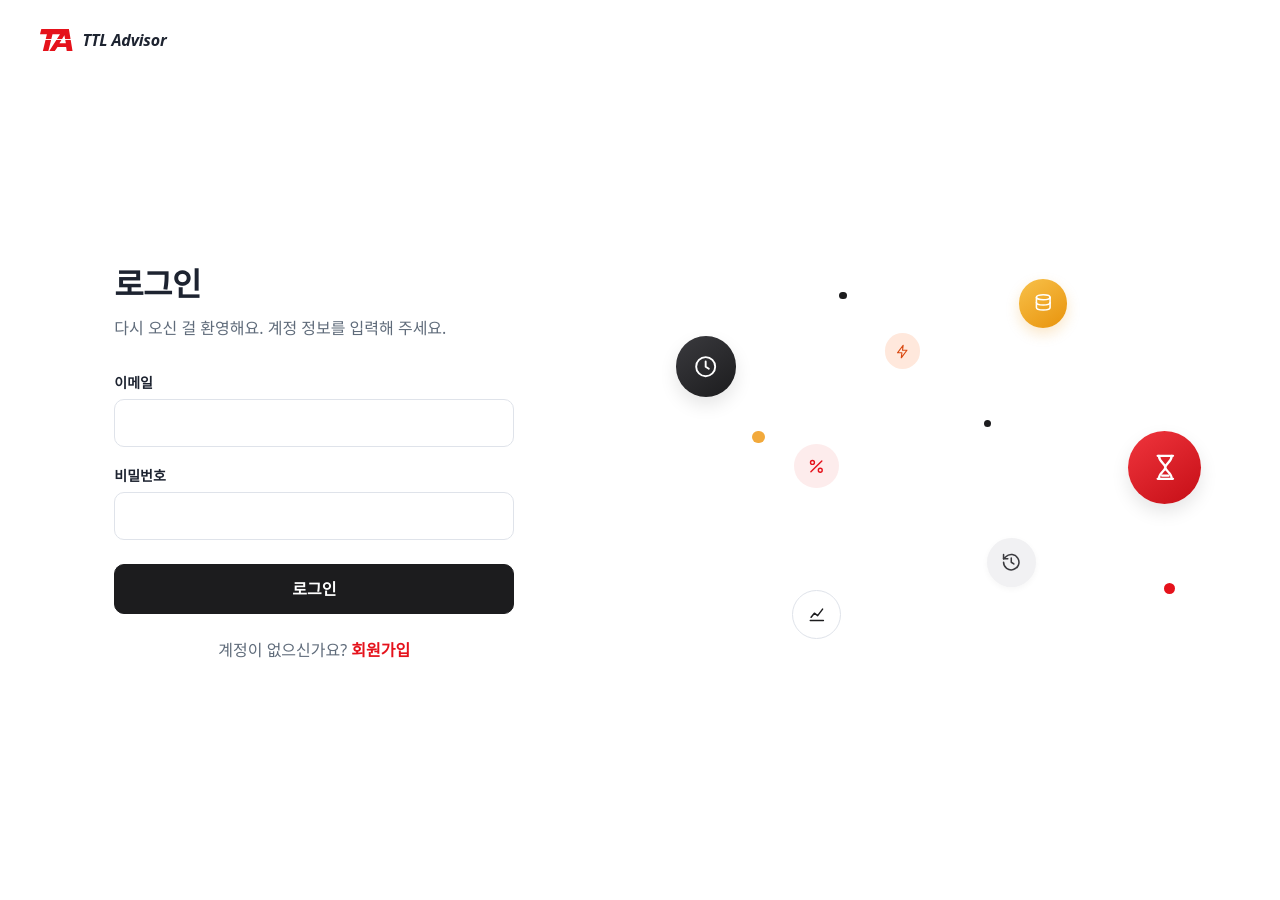
it: 로그인 › 성공하면 원래 가려던 화면으로 가고 헤더에 이름이 보인다
The width and height of the screenshot is (1280, 900).
Type "  dev@example.com " into the field labelled "이메일". click: (314, 422)
box: x1=114 y1=398 x2=514 y2=446
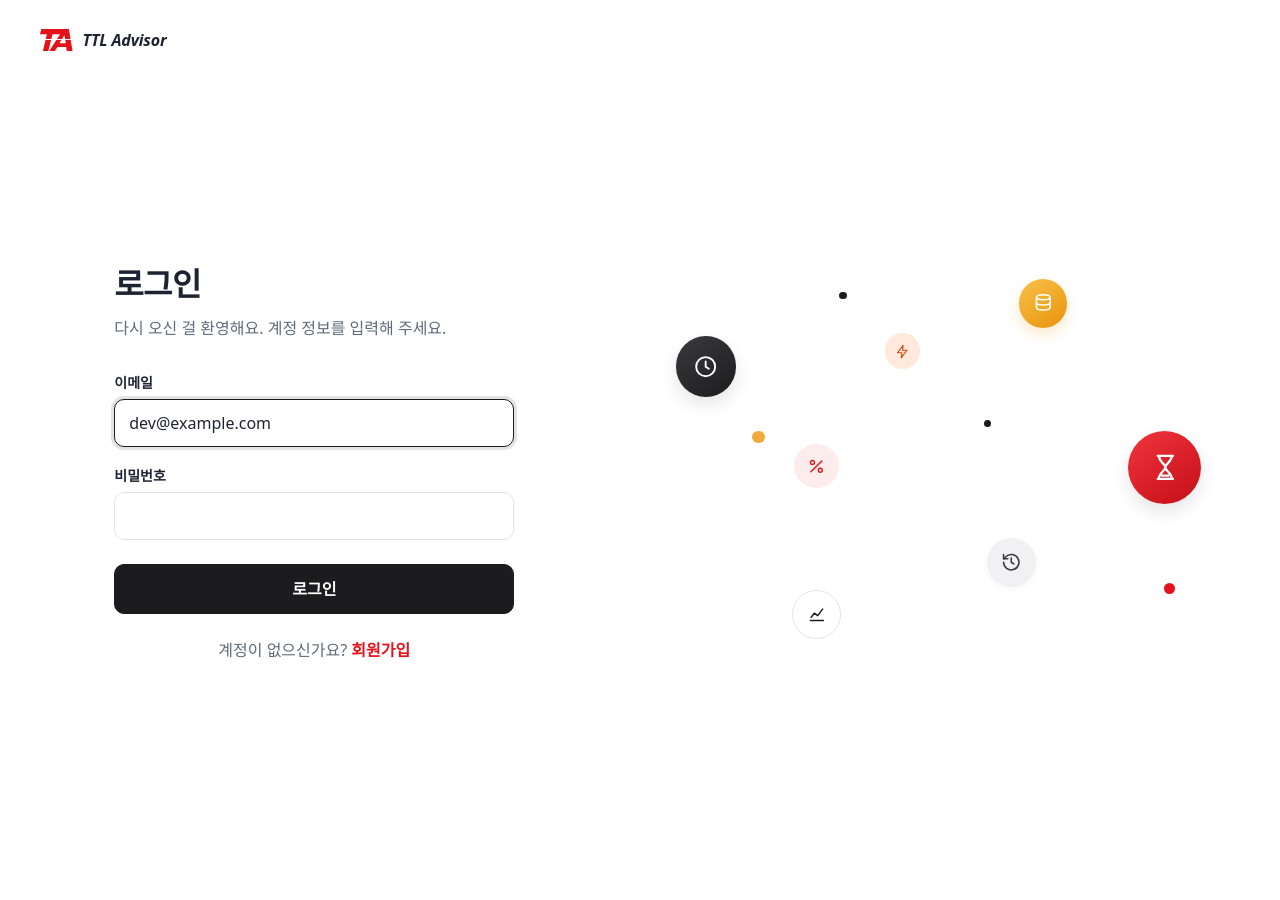
Type "correct-horse-1" into the password field labelled "비밀번호". click: (314, 516)
box: x1=114 y1=492 x2=514 y2=540
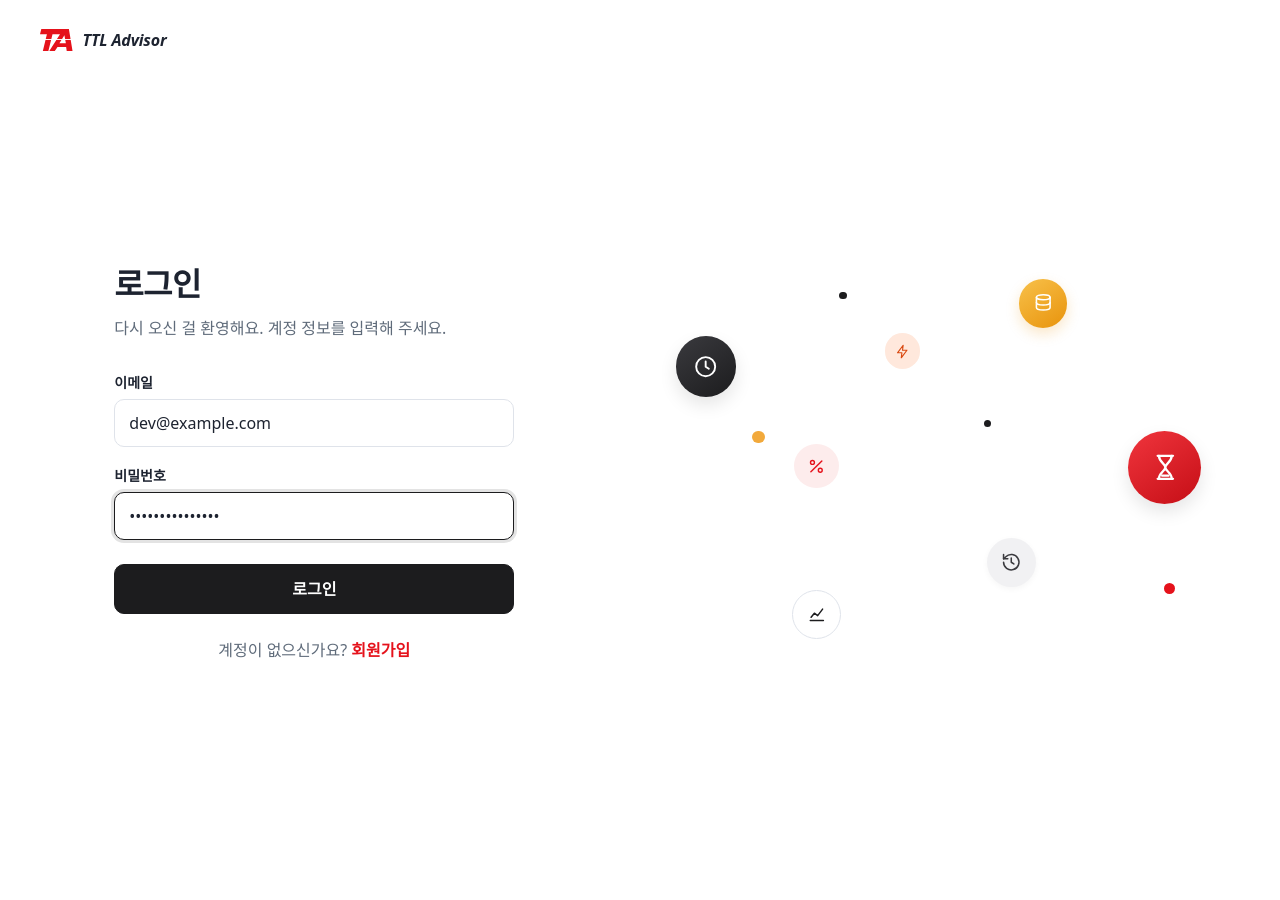
Click the button "로그인". click: (314, 588)
box: x1=114 y1=564 x2=514 y2=614
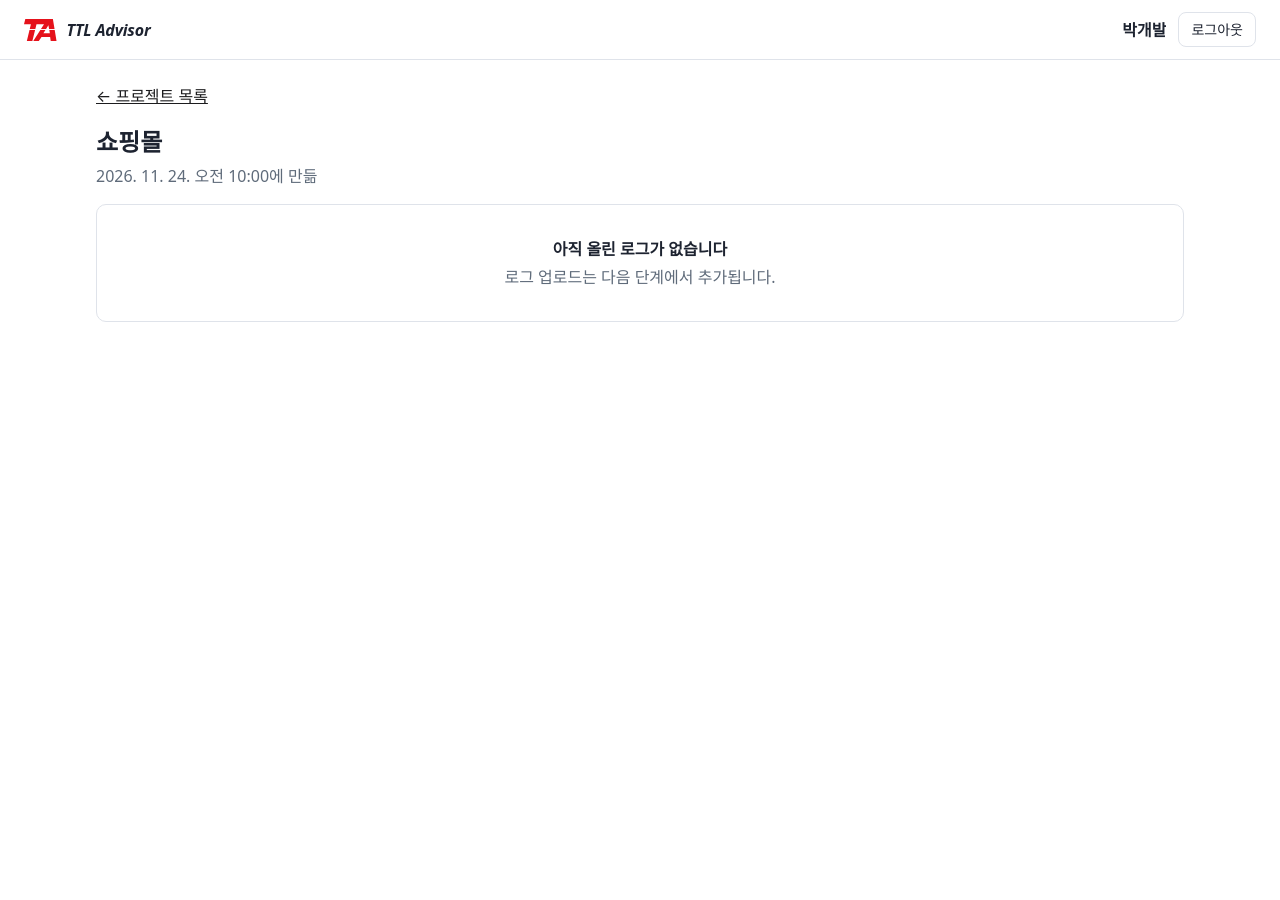
Now the text "박개발" is shown, box x1=1122 y1=18 x2=1166 y2=42
Now the button "로그아웃" is shown, box x1=1178 y1=12 x2=1256 y2=47
